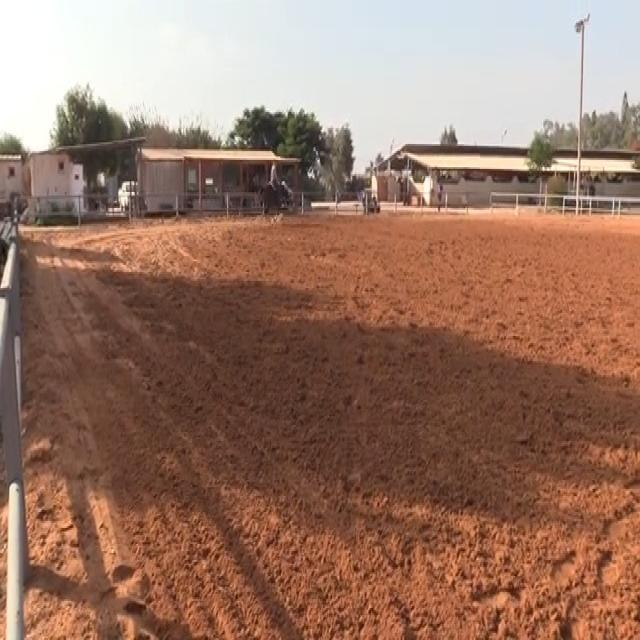horse: (255, 176, 295, 217)
